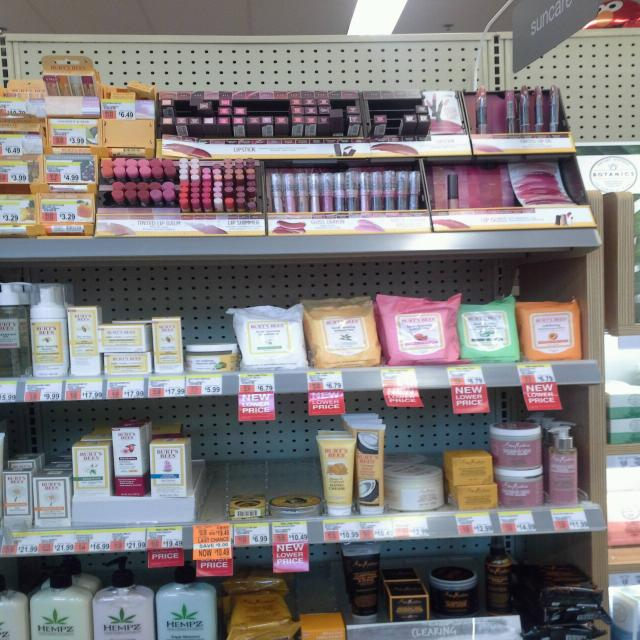empty: (199, 414, 224, 527)
